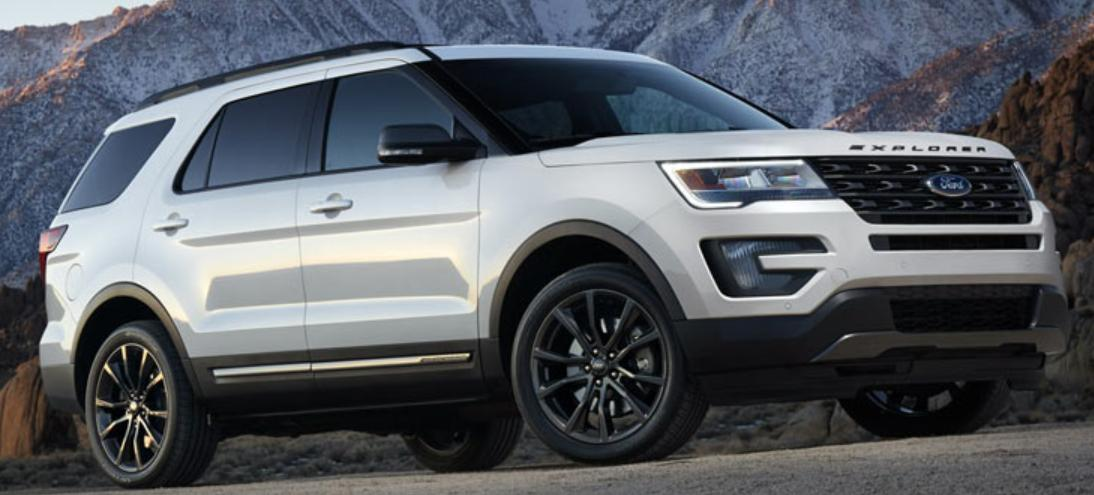Ford Explorer: (31, 33, 1078, 491)
